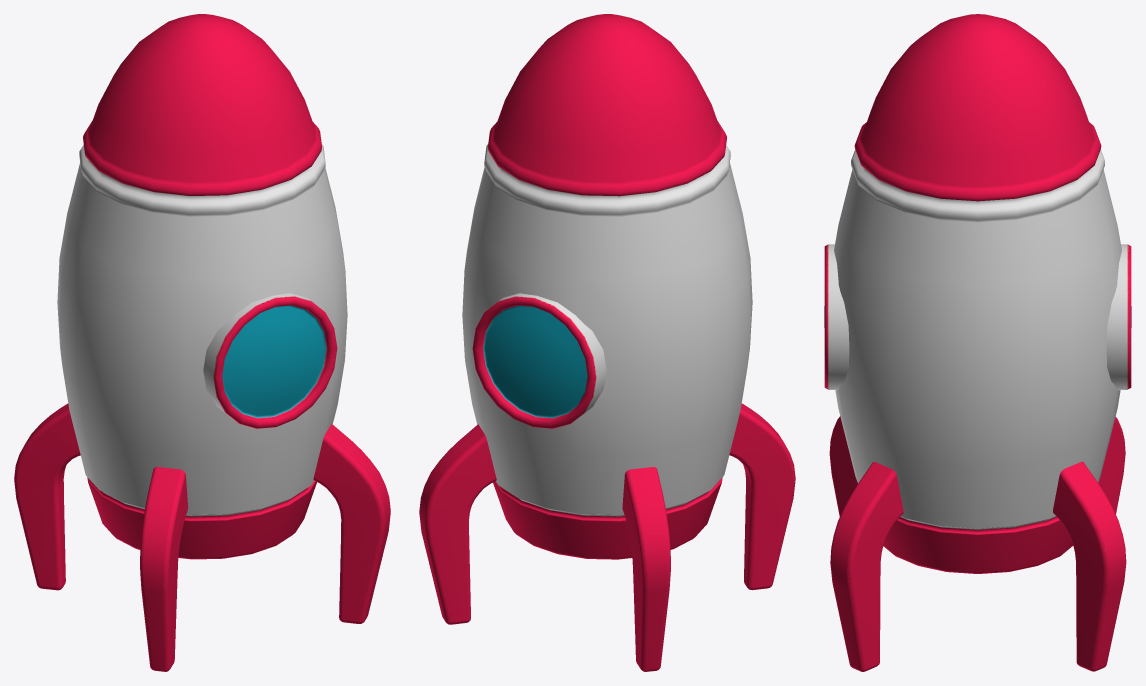
Rendered from rocket.glb.
3 renders of one model, left to right at view 1: azimuth 30°, elevation 25°; view 2: azimuth 150°, elevation 25°; view 3: azimuth 270°, elevation 25°, orthographic. The views are drawn at different scales.
Visible parts, largest first — view 1: Rocket2; view 2: Rocket2; view 3: Rocket2.
Part boxes in pixels (x1,y1,x2,y2): Rocket2: [14, 14, 390, 671]; Rocket2: [419, 14, 795, 671]; Rocket2: [824, 14, 1131, 671].
Bounding box in the file's own units: 2.45 × 5.41 × 2.51.
1 material, 1 textured.
